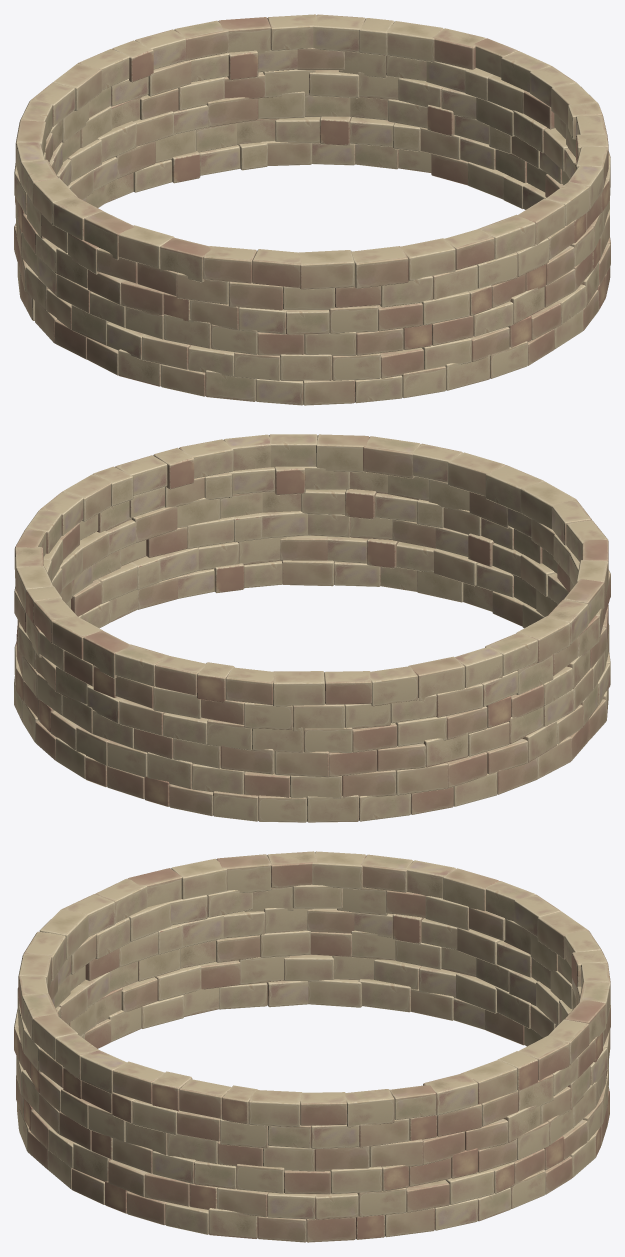
File: towerwallspiece.fbx
3 views of the same model, one above another, from view 1: azimuth 30°, elevation 25°; view 2: azimuth 150°, elevation 25°; view 3: azimuth 270°, elevation 25° (orthographic).
Parts seen in each view (by area): view 1: towerwallpiece_LOD0; view 2: towerwallpiece_LOD0; view 3: towerwallpiece_LOD0.
Part boxes in pixels (x1=…): towerwallpiece_LOD0: x1=14, y1=14, x2=610, y2=405; towerwallpiece_LOD0: x1=14, y1=434, x2=610, y2=822; towerwallpiece_LOD0: x1=14, y1=851, x2=610, y2=1242.
Size of the model in its own units: 5.93 by 1.55 by 5.91.
